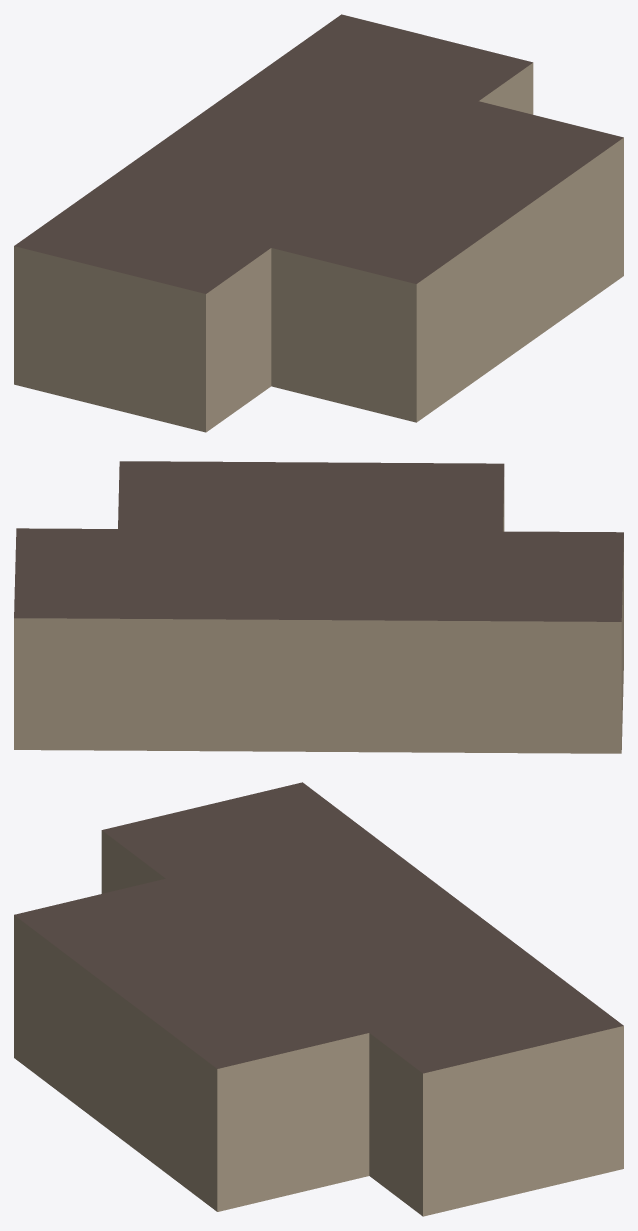
The picture shows the model from 3 angles, top to bottom: view 1: azimuth 30°, elevation 25°; view 2: azimuth 150°, elevation 25°; view 3: azimuth 270°, elevation 25°; orthographic projection. The views are drawn at different scales.
Parts seen in each view (by area): view 1: HP-w859488874; view 2: HP-w859488874; view 3: HP-w859488874.
Boxes of the visible parts, left/top/right/bottom form: HP-w859488874: left=14, top=14, right=623, bottom=432; HP-w859488874: left=14, top=461, right=623, bottom=753; HP-w859488874: left=14, top=782, right=623, bottom=1216.
Bounding box in the file's own units: 39.29 × 9 × 34.77.
